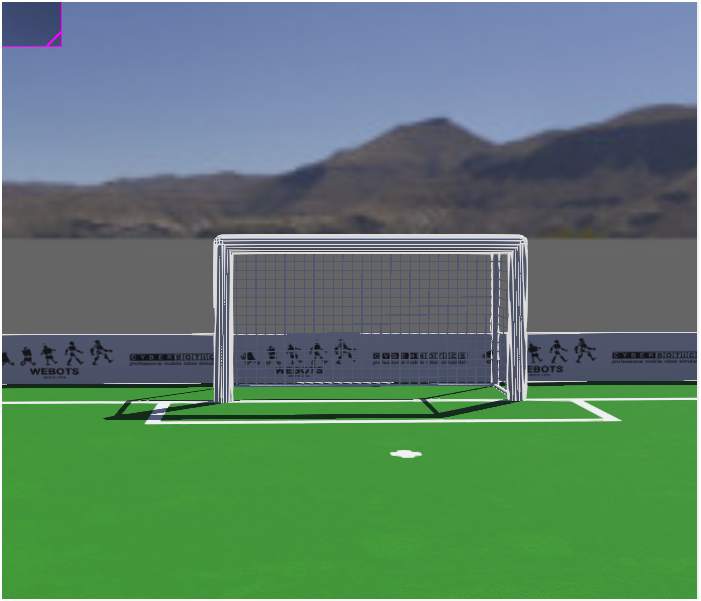Goal: (165, 204, 552, 463)
